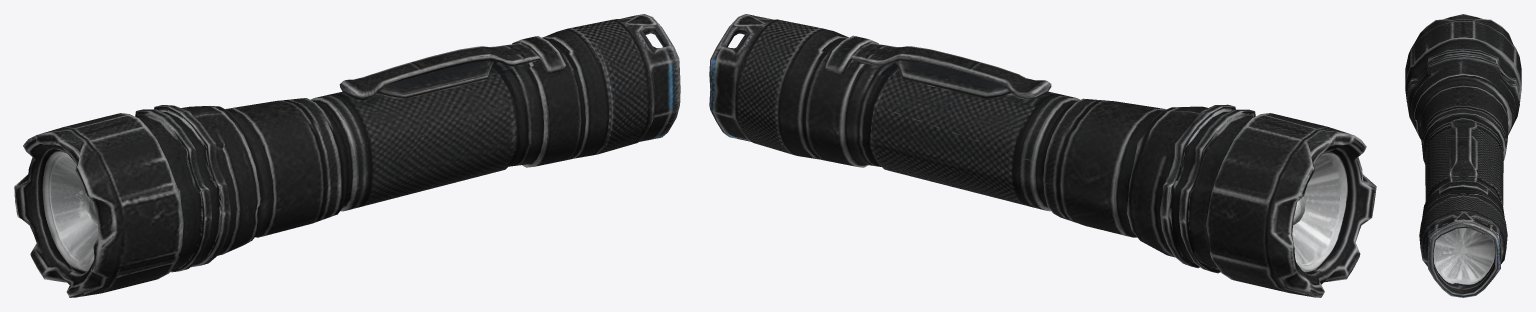
The model's file is flashlight.glb.
The picture shows the model from 3 angles, left to right: view 1: azimuth 30°, elevation 25°; view 2: azimuth 150°, elevation 25°; view 3: azimuth 270°, elevation 25°; orthographic projection. The views are drawn at different scales.
Size of the model in its own units: 0.957 by 0.2378 by 0.2417.
Materials: 1 (1 with a texture image).
